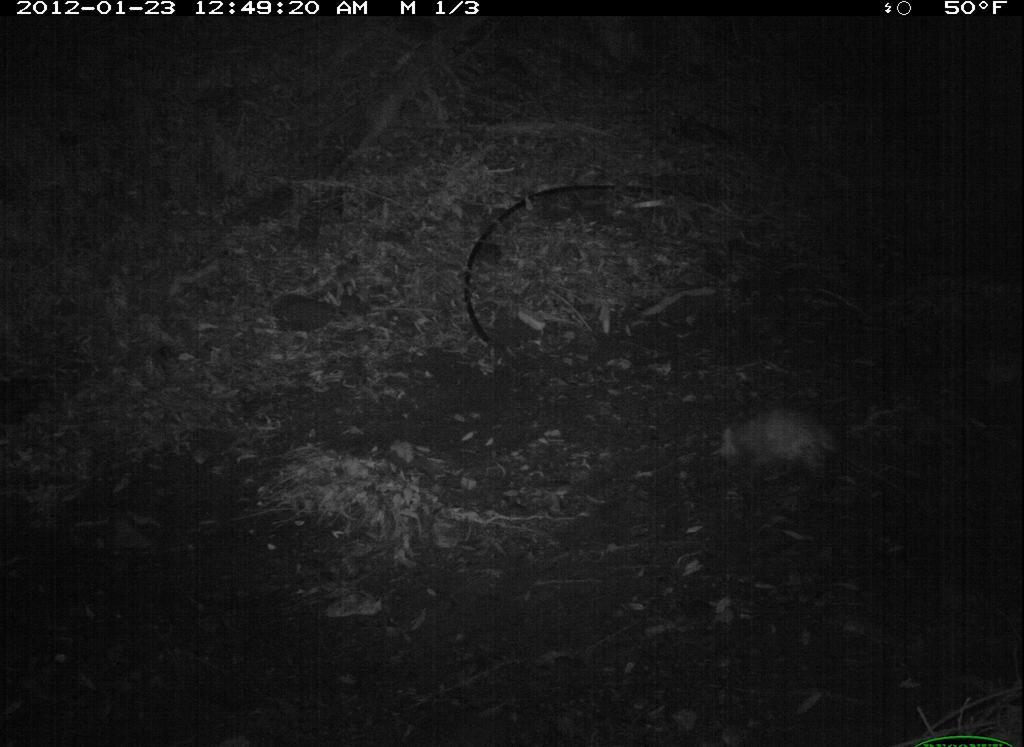opossum: (716, 376, 843, 504)
